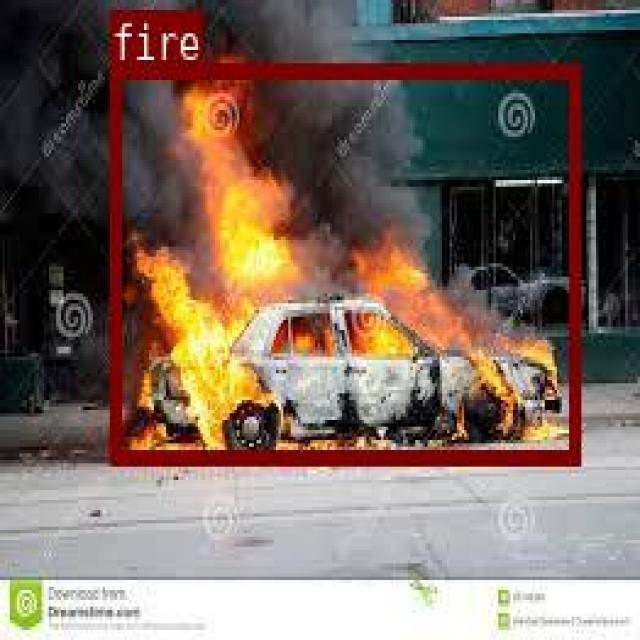fire: (109, 61, 577, 463)
